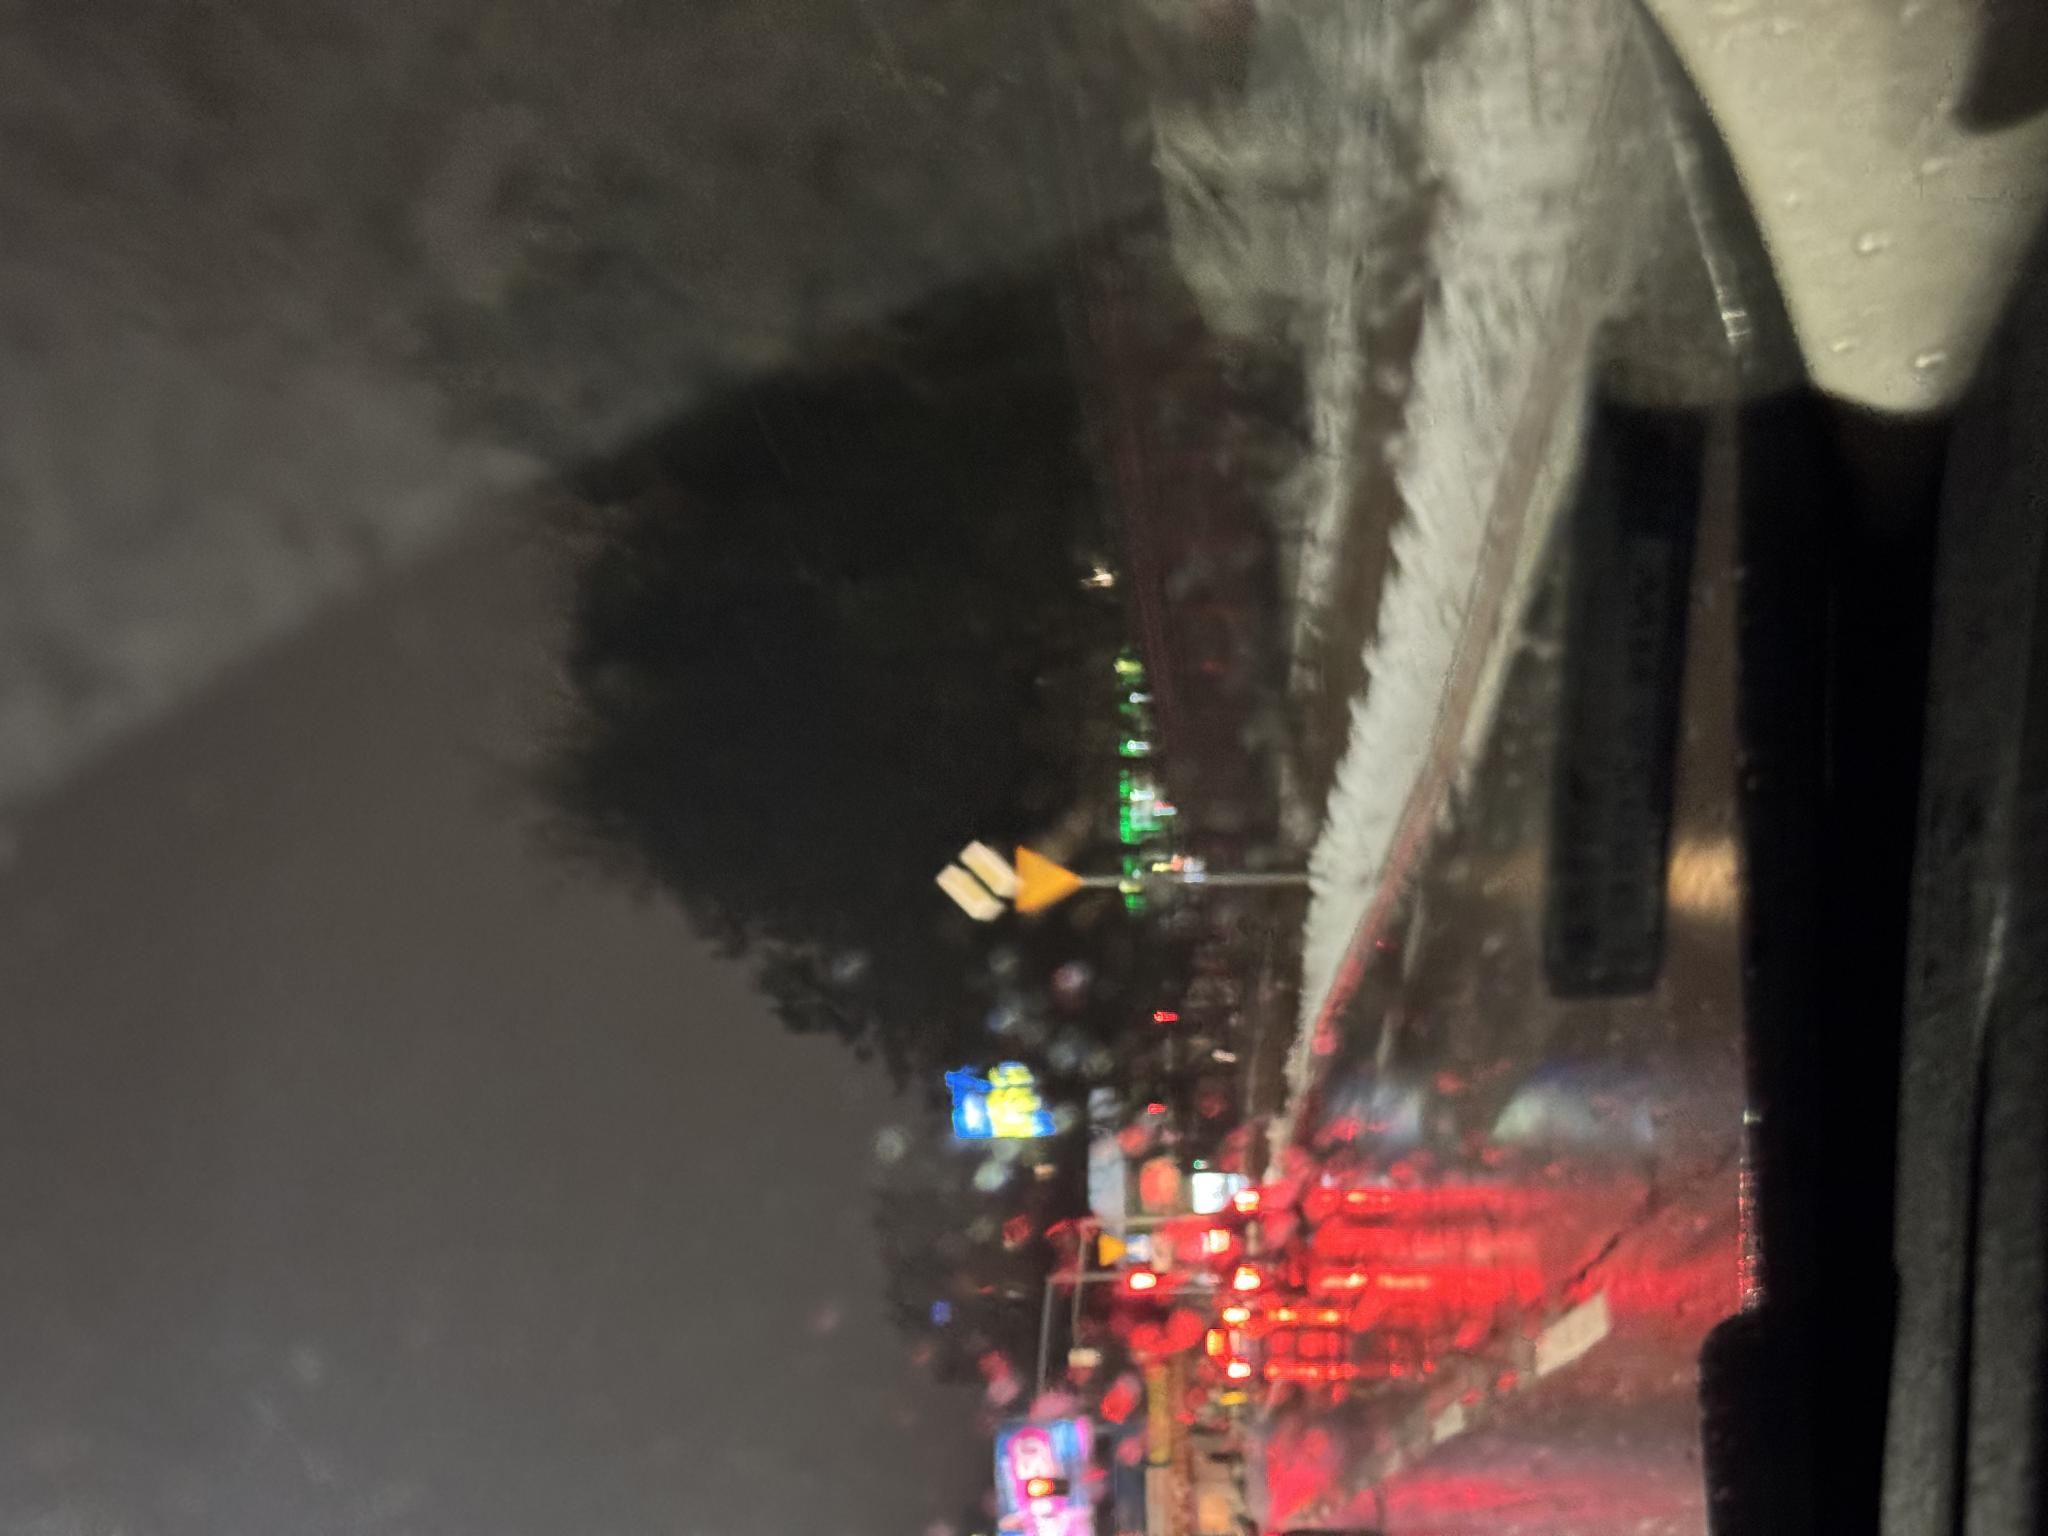information: (614, 936, 698, 1014)
warning: (618, 1013, 692, 1083), (270, 1098, 302, 1126)
